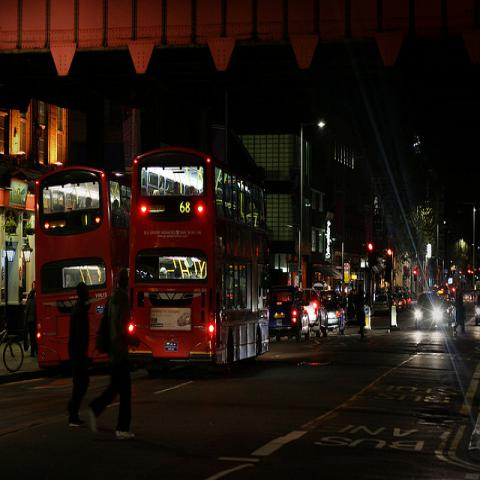bus: (120, 152, 269, 368), (34, 167, 133, 374)
car: (269, 286, 311, 342), (302, 287, 328, 339), (320, 291, 345, 333), (416, 293, 441, 329), (374, 295, 390, 316), (473, 292, 479, 326), (398, 292, 407, 311), (394, 294, 403, 312)
